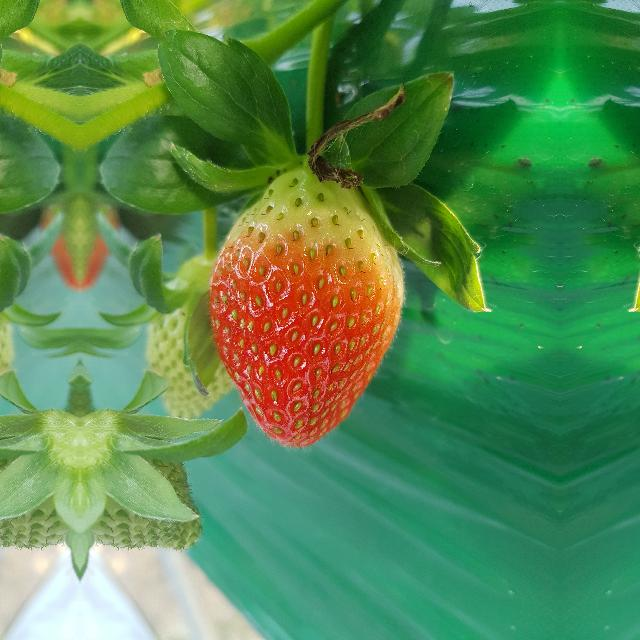Health_75: (208, 164, 406, 448)
